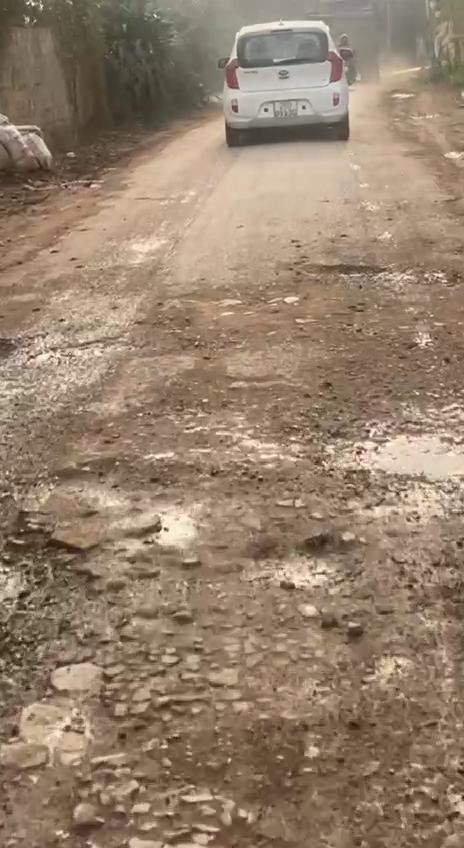pothole: (0, 486, 117, 730), (314, 397, 464, 521), (312, 252, 462, 291)
